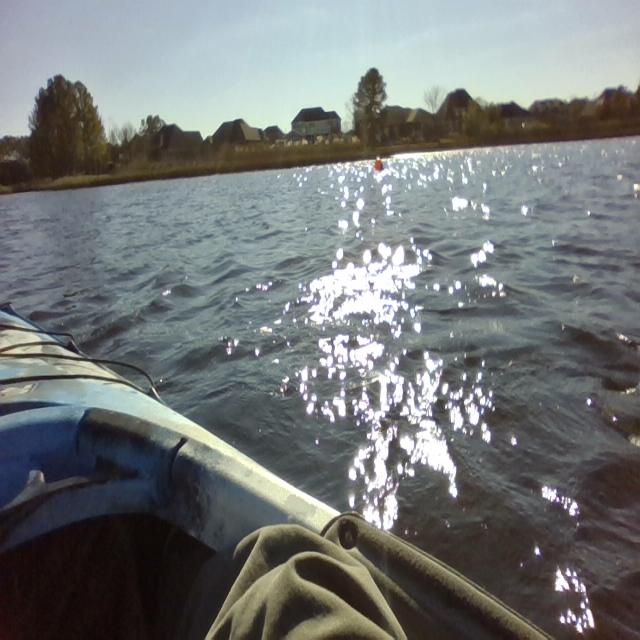Buoy: (371, 153, 387, 175)
